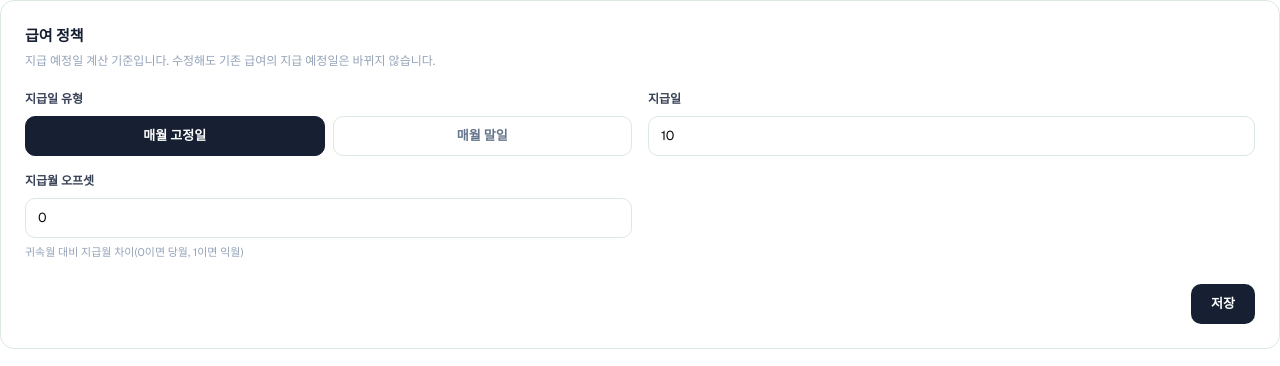
Scenario: PayrollPolicyForm › 지급일 유형을 매월 말일로 바꾸면 지급일 입력을 비활성화한다
Click the button "매월 말일" at [482, 136], box [332, 116, 632, 156]
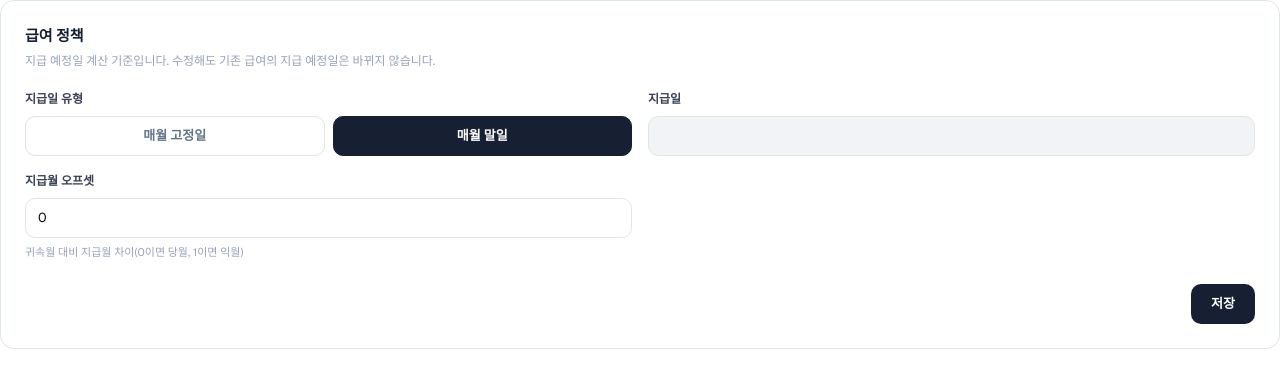
expect the number field labelled "지급일" is disabled: met, box [648, 116, 1255, 156]
